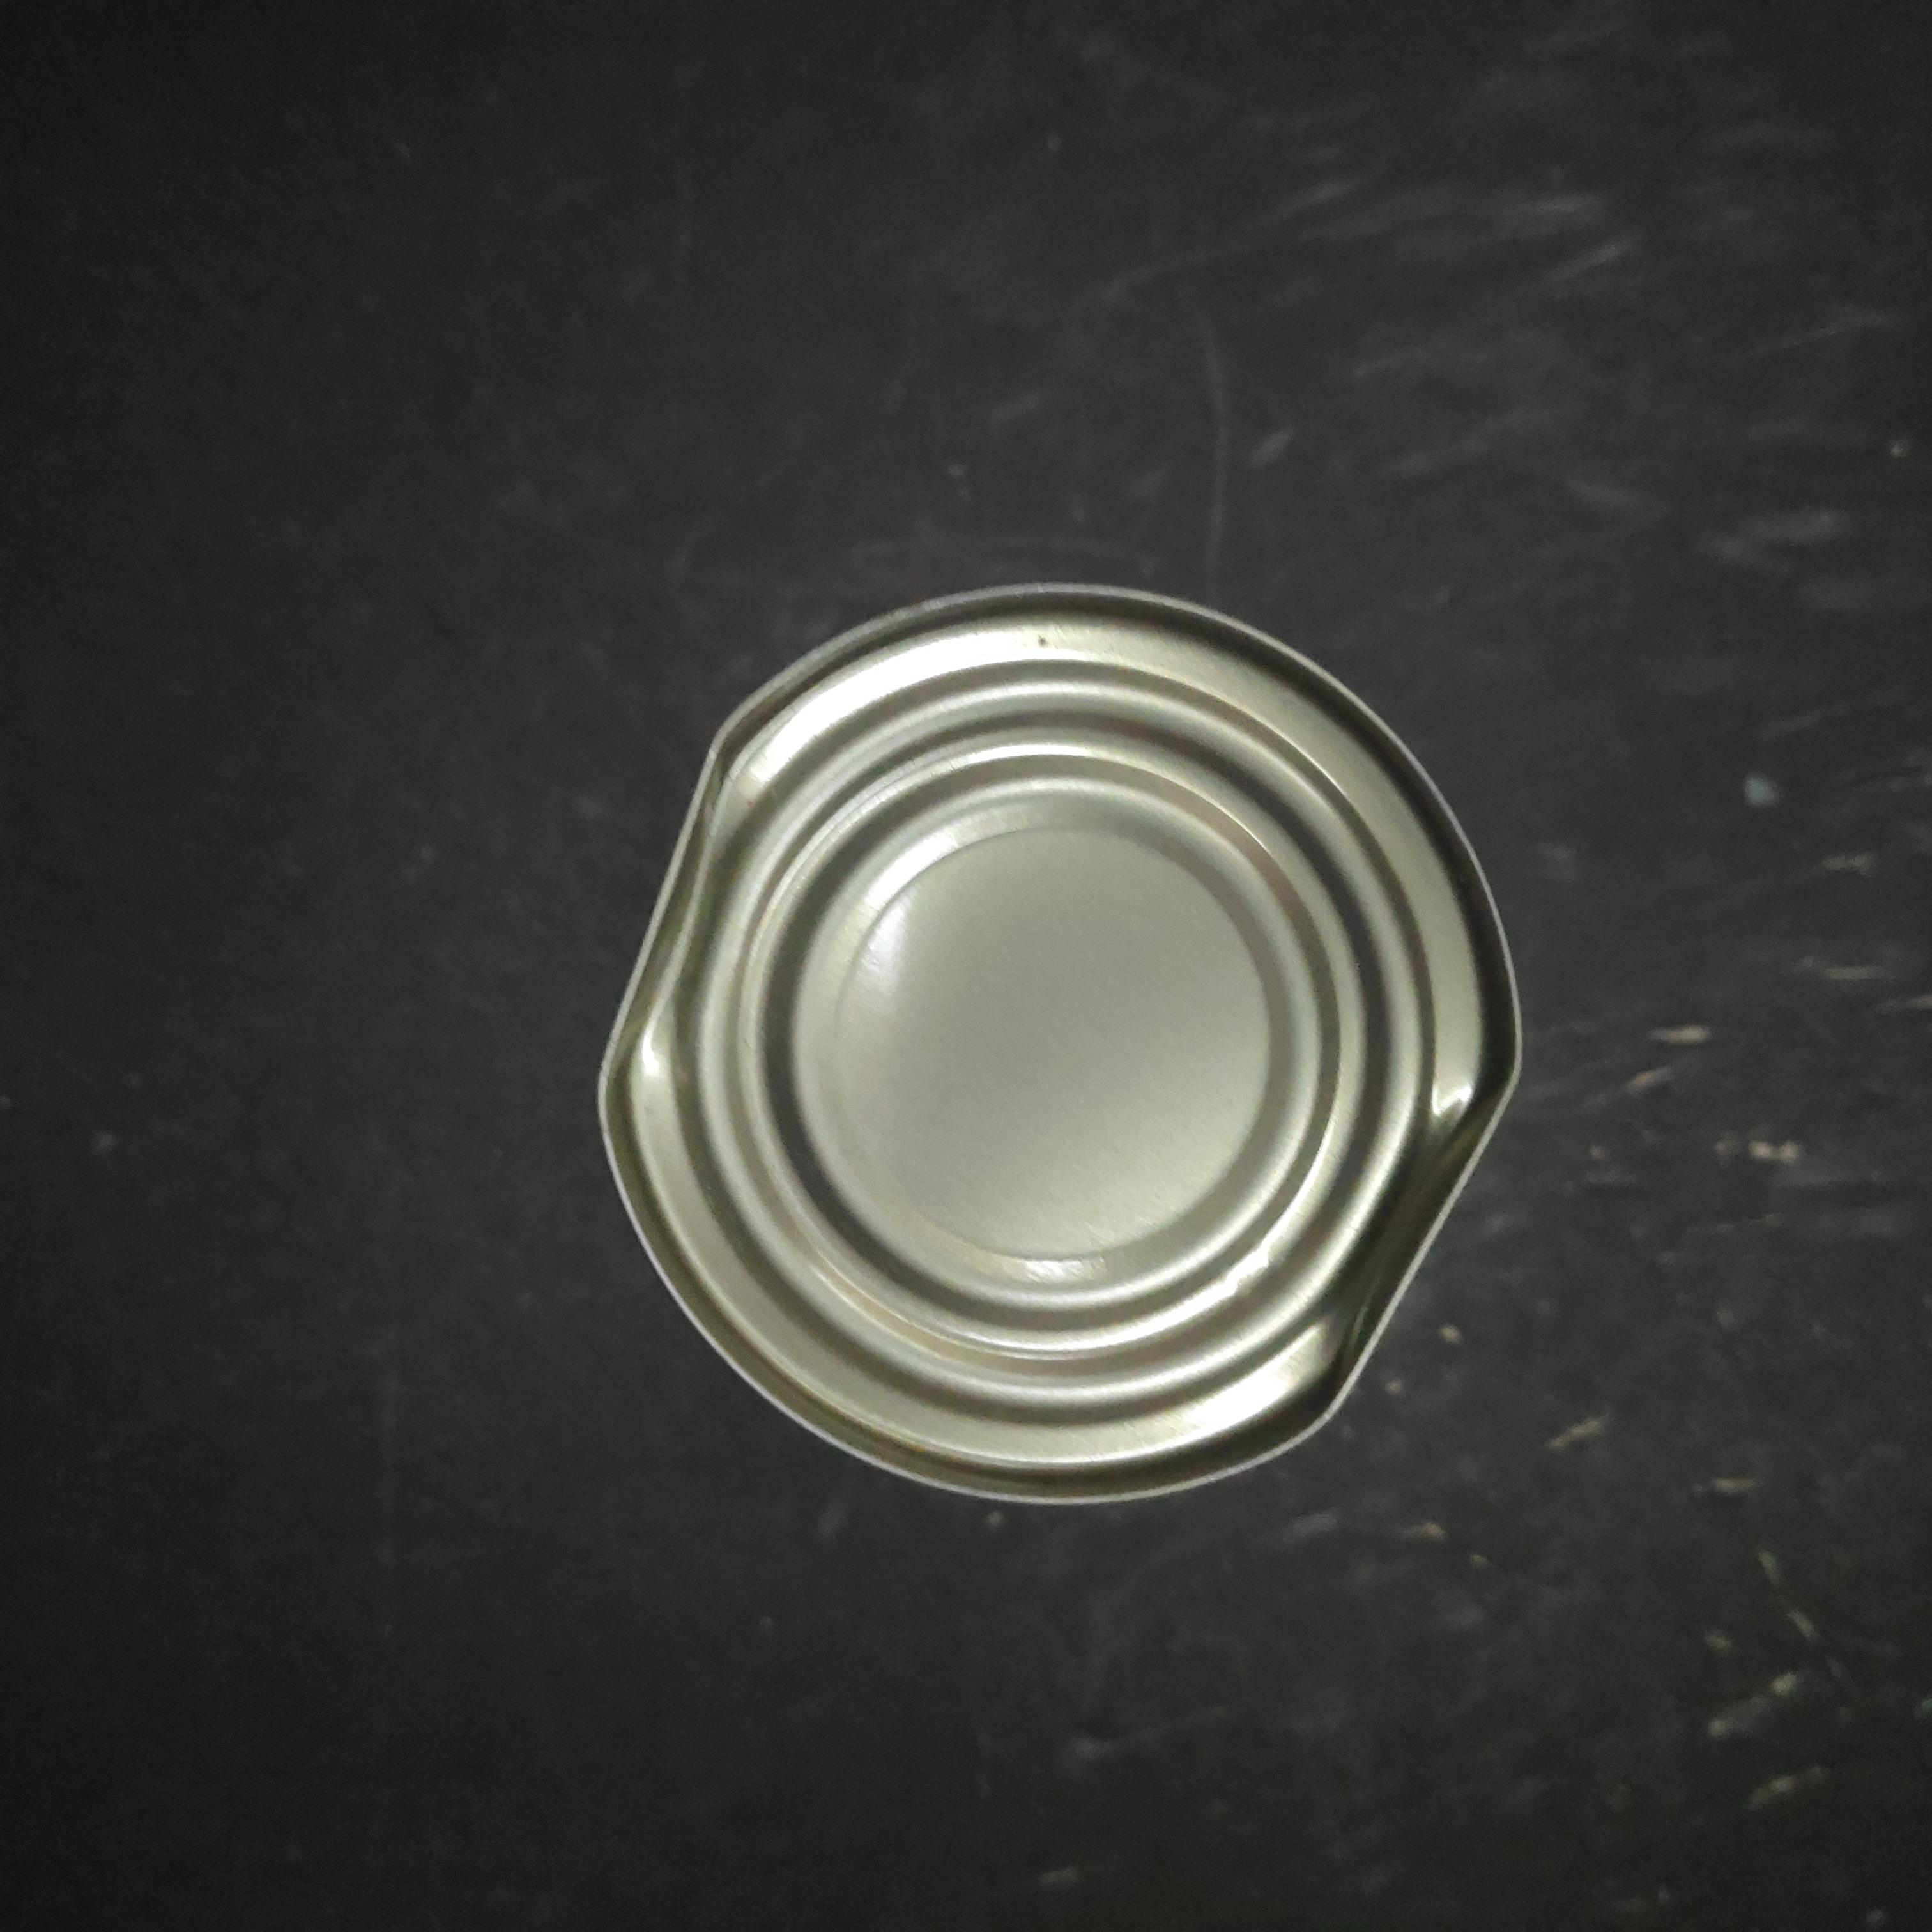Minor Defect: (589, 563, 1532, 1524)
